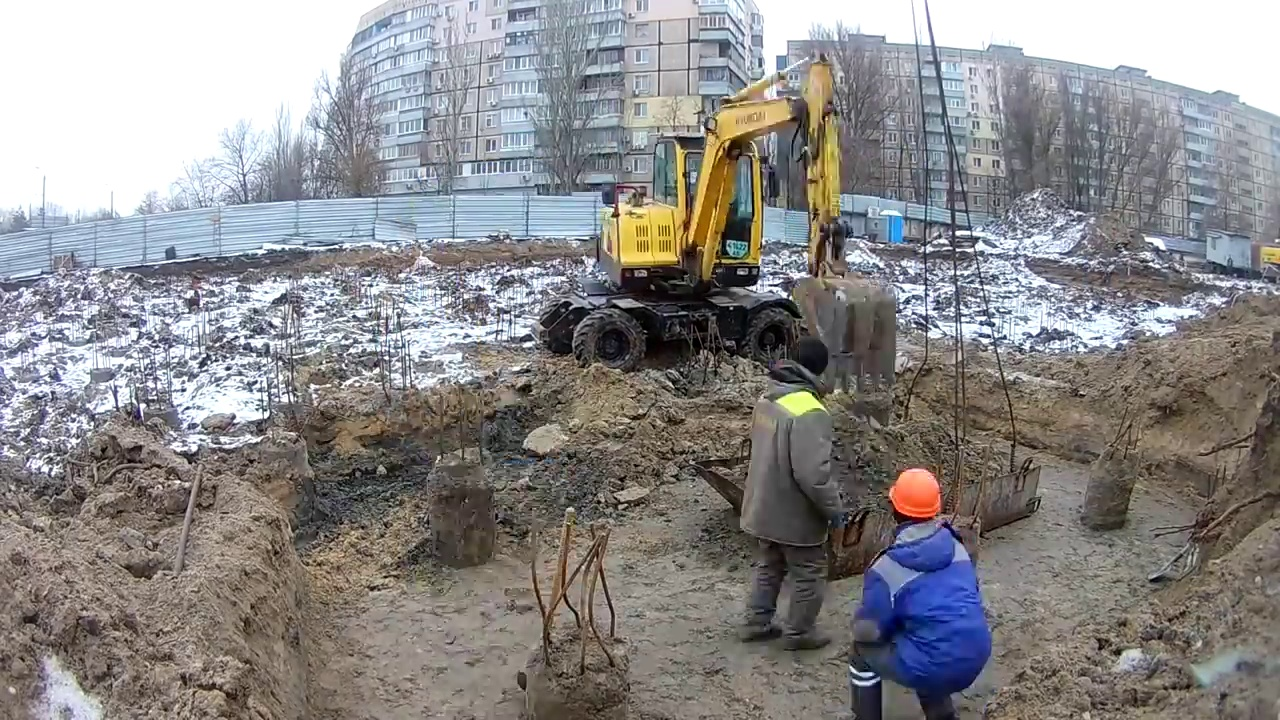helmet: (887, 469, 942, 520)
helmet-off: (771, 334, 831, 399)
helmet-on: (888, 460, 945, 541)
person: (846, 463, 994, 720), (739, 334, 847, 659)
